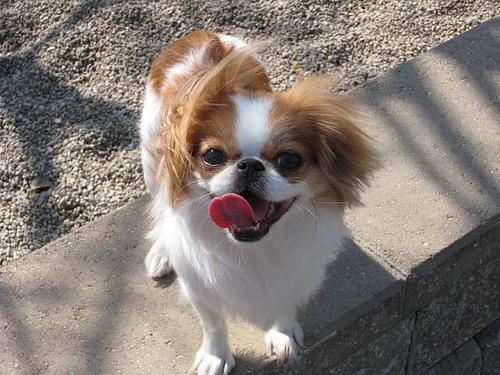dog: (165, 84, 352, 245)
